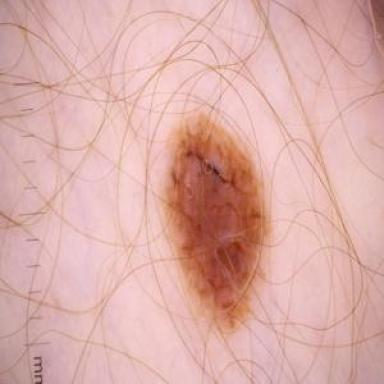Melanoma: (166, 113, 266, 331)
